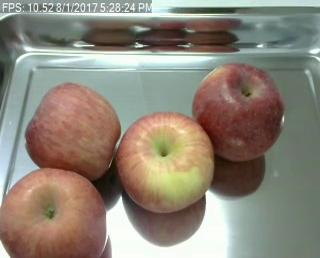apple: (117, 112, 214, 212), (0, 169, 108, 258), (25, 83, 120, 177), (198, 65, 284, 154)
